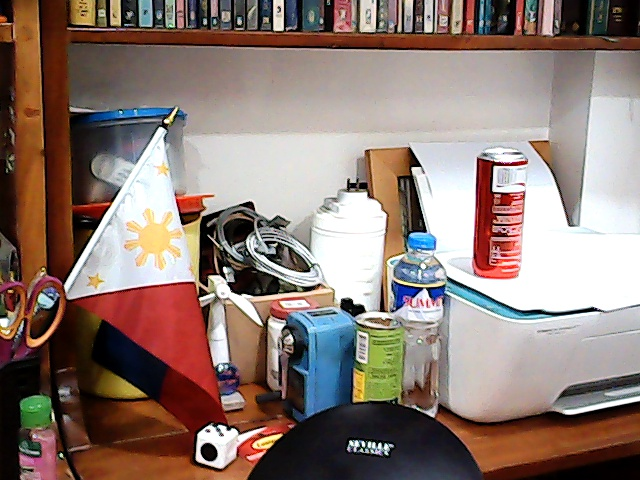Cola: (464, 143, 537, 290)
Pine Juice: (349, 304, 401, 412)
Summit Water: (401, 225, 453, 414)
